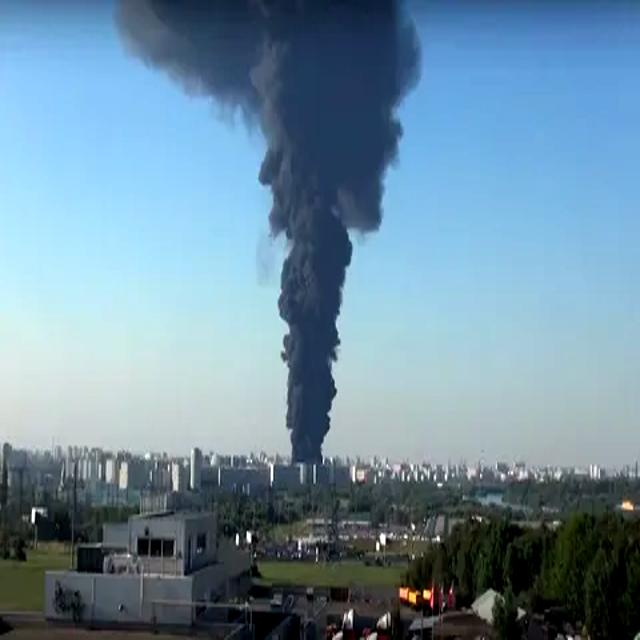no_helmet: (224, 0, 429, 464)
